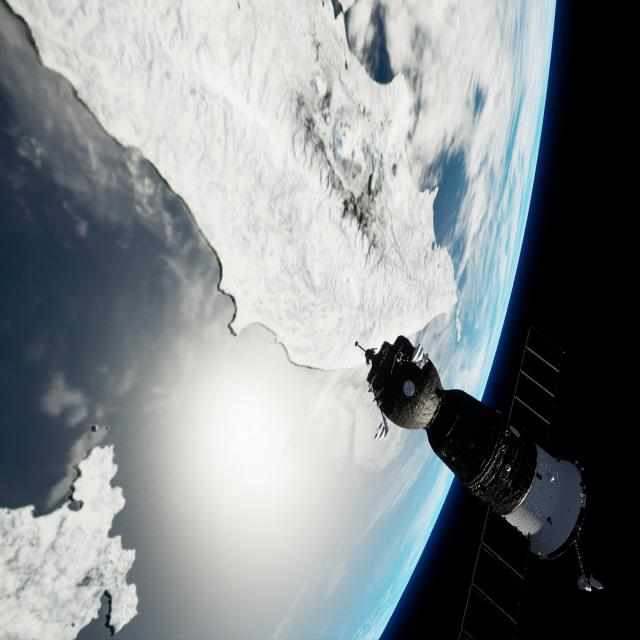Satellites revolving around earth: (1, 1, 558, 638)
